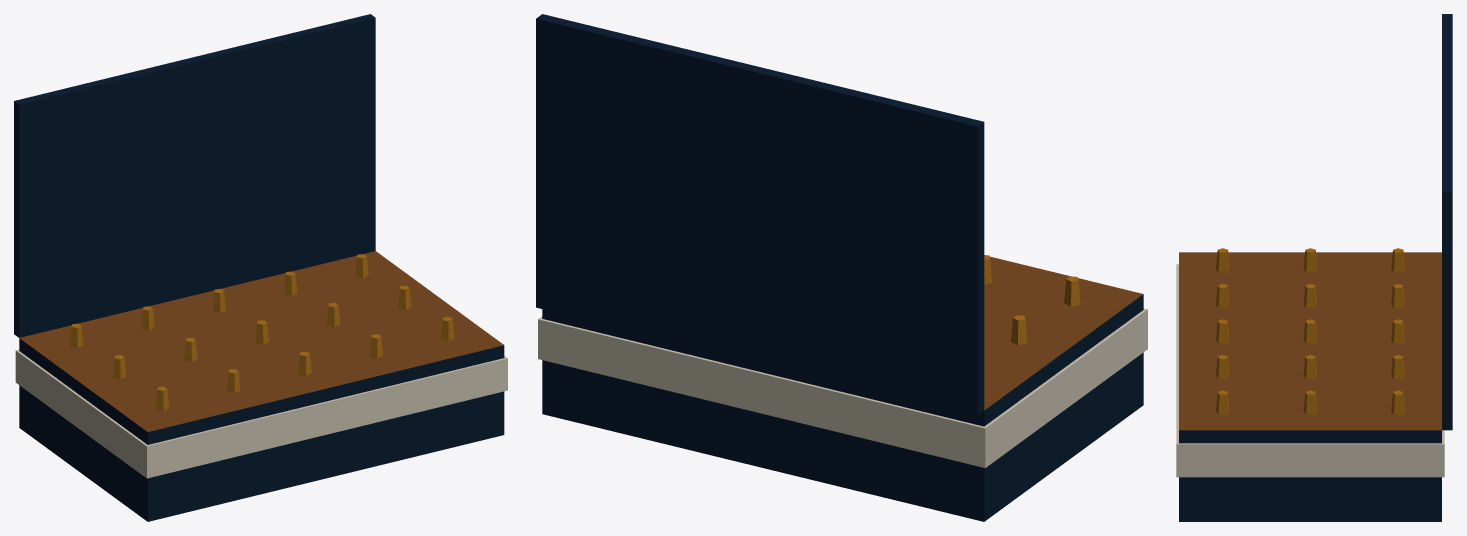
File: SM_Prop_AmmoBox_556_Open.glb
The picture shows the model from 3 angles, left to right: view 1: azimuth 30°, elevation 25°; view 2: azimuth 150°, elevation 25°; view 3: azimuth 270°, elevation 25°; orthographic projection. The views are drawn at different scales.
Parts seen in each view (by area): view 1: SM_Prop_AmmoBox_556_Open; view 2: SM_Prop_AmmoBox_556_Open; view 3: SM_Prop_AmmoBox_556_Open.
Boxes of the visible parts, box(x1,y1,x2,y2) form: SM_Prop_AmmoBox_556_Open: box(14, 14, 507, 521); SM_Prop_AmmoBox_556_Open: box(536, 14, 1147, 521); SM_Prop_AmmoBox_556_Open: box(1176, 14, 1452, 521).
Bounding box in the file's own units: 0.162 × 0.1385 × 0.105.
Materials: 1 (1 with a texture image).
